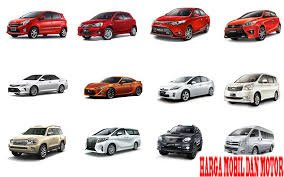mobil: (6, 70, 72, 110), (6, 122, 74, 159), (147, 8, 212, 43), (224, 9, 282, 46), (155, 121, 208, 161), (74, 9, 139, 41), (83, 125, 145, 158), (223, 124, 276, 161), (224, 74, 279, 109), (5, 9, 68, 39), (82, 72, 145, 102), (158, 71, 217, 102)
